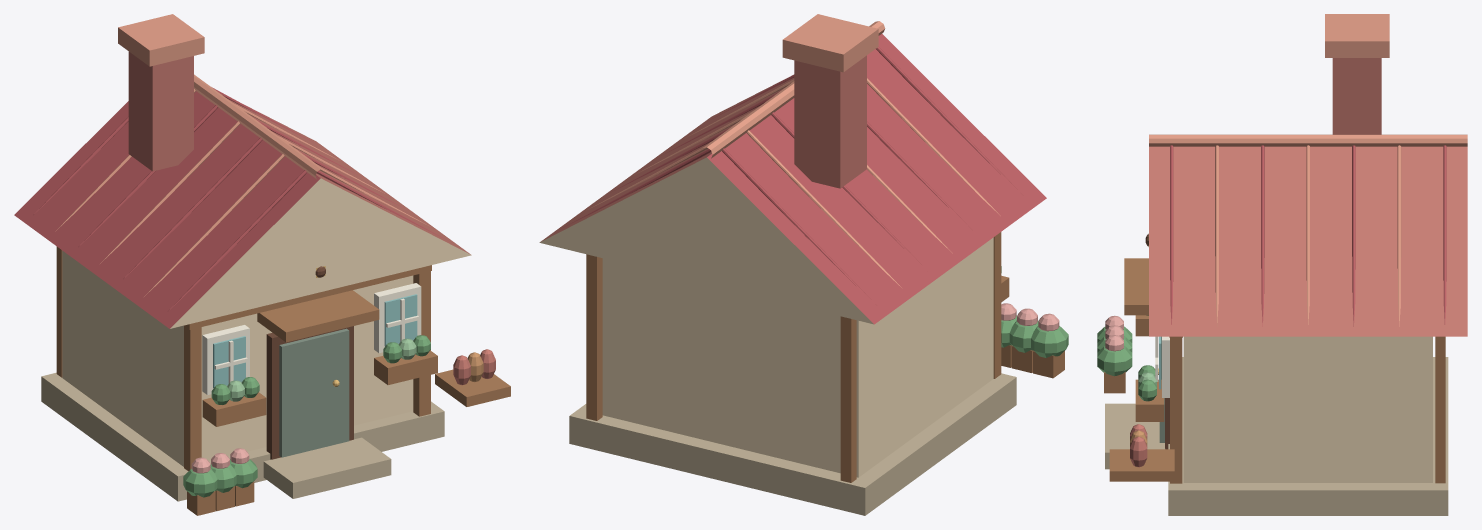
Rendered from workshop-house.glb.
The picture shows the model from 3 angles, left to right: view 1: azimuth 30°, elevation 25°; view 2: azimuth 150°, elevation 25°; view 3: azimuth 270°, elevation 25°; orthographic projection. The views are drawn at different scales.
Visible parts, largest first — view 1: connected-layered-roof-left, solid-cream-walls, connected-layered-roof-front-gable, stone-foundation, painted-door, copper-chimney, porch-step, timber-awning, copper-chimney-cap, connected-layered-roof-right, front-timber-post--1.19, central-door-frame (+16 smaller); view 2: solid-cream-walls, connected-layered-roof-left, connected-layered-roof-back-gable, stone-foundation, copper-chimney, copper-chimney-cap, connected-layered-roof-right, back-timber-post--1.19, back-timber-post-1.19, connected-layered-roof-ridge, front-timber-post--1.19, potted-flowers-0-leaf (+6 smaller); view 3: connected-layered-roof-right, solid-cream-walls, stone-foundation, connected-layered-roof-ridge, copper-chimney, copper-chimney-cap, outside-tool-shelf, porch-step, front-timber-post-1.19, back-timber-post-1.19, timber-awning, planter-0.8908000000000001 (+11 smaller).
Part boxes in pixels (left/top/right/bottom): connected-layered-roof-left: left=14, top=91, right=320, bottom=328; solid-cream-walls: left=62, top=251, right=413, bottom=466; connected-layered-roof-front-gable: left=170, top=178, right=471, bottom=328; stone-foundation: left=41, top=372, right=444, bottom=501; painted-door: left=279, top=328, right=349, bottom=457; copper-chimney: left=128, top=51, right=193, bottom=171; porch-step: left=263, top=437, right=391, bottom=498; timber-awning: left=257, top=290, right=379, bottom=342; copper-chimney-cap: left=118, top=14, right=204, bottom=66; connected-layered-roof-right: left=228, top=99, right=470, bottom=254; front-timber-post--1.19: left=184, top=326, right=201, bottom=471; central-door-frame: left=266, top=326, right=353, bottom=459; solid-cream-walls: left=602, top=237, right=993, bottom=477; connected-layered-roof-left: left=707, top=34, right=1046, bottom=324; connected-layered-roof-back-gable: left=539, top=157, right=873, bottom=324; stone-foundation: left=569, top=373, right=1016, bottom=515; copper-chimney: left=794, top=55, right=866, bottom=188; copper-chimney-cap: left=782, top=14, right=878, bottom=72; connected-layered-roof-right: left=540, top=75, right=794, bottom=241; back-timber-post--1.19: left=840, top=316, right=856, bottom=482; back-timber-post-1.19: left=586, top=254, right=602, bottom=420; connected-layered-roof-ridge: left=703, top=21, right=885, bottom=158; front-timber-post--1.19: left=993, top=232, right=1001, bottom=378; potted-flowers-0-leaf: left=1031, top=325, right=1068, bottom=357; connected-layered-roof-right: left=1149, top=146, right=1467, bottom=336; solid-cream-walls: left=1183, top=336, right=1432, bottom=482; stone-foundation: left=1168, top=357, right=1448, bottom=515; connected-layered-roof-ridge: left=1149, top=134, right=1467, bottom=146; copper-chimney: left=1332, top=58, right=1381, bottom=134; copper-chimney-cap: left=1325, top=14, right=1389, bottom=57; outside-tool-shelf: left=1109, top=449, right=1174, bottom=481; porch-step: left=1105, top=403, right=1164, bottom=469; front-timber-post-1.19: left=1170, top=337, right=1182, bottom=483; back-timber-post-1.19: left=1435, top=336, right=1445, bottom=483; timber-awning: left=1124, top=258, right=1148, bottom=315; planter-0.8908000000000001: left=1135, top=379, right=1164, bottom=421.
Bounding box in the file's own units: 3.35 × 3.8 × 3.25.
